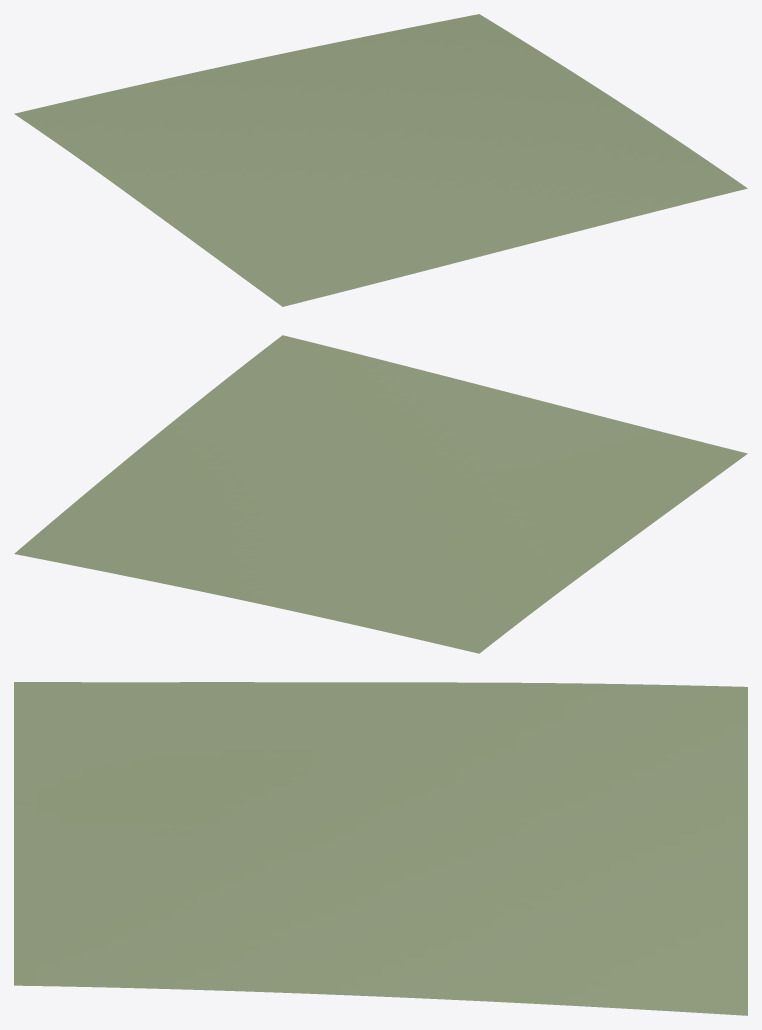
File: desert-2-26.glb
3 views of the same model, one above another, from view 1: azimuth 30°, elevation 25°; view 2: azimuth 150°, elevation 25°; view 3: azimuth 270°, elevation 25° (orthographic). The views are drawn at different scales.
Parts seen in each view (by area): view 1: desert-2-26; view 2: desert-2-26; view 3: desert-2-26.
Part boxes in pixels (box(x1,y1,x2,y2)): desert-2-26: box(14, 14, 747, 306); desert-2-26: box(14, 335, 747, 653); desert-2-26: box(14, 682, 747, 1015).
Size of the model in its own units: 512 by 23.24 by 512.
